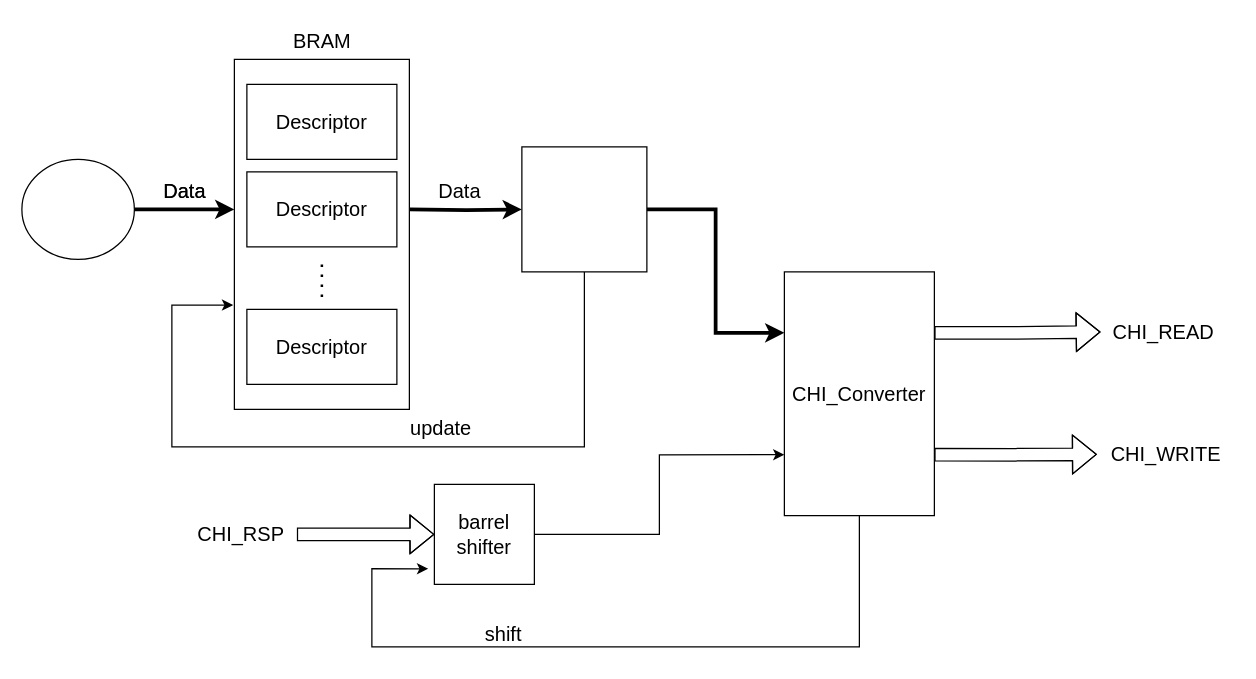
The diagram is 1256 pixels wide and 679 high, and some of its shapes have lost their labels. The shapes that lost their labels are listed below. From the top down, each one's centre as x and y in pixels, then its label:
At [77,208]: "Proc".
At [584,209]: "scheduler".
